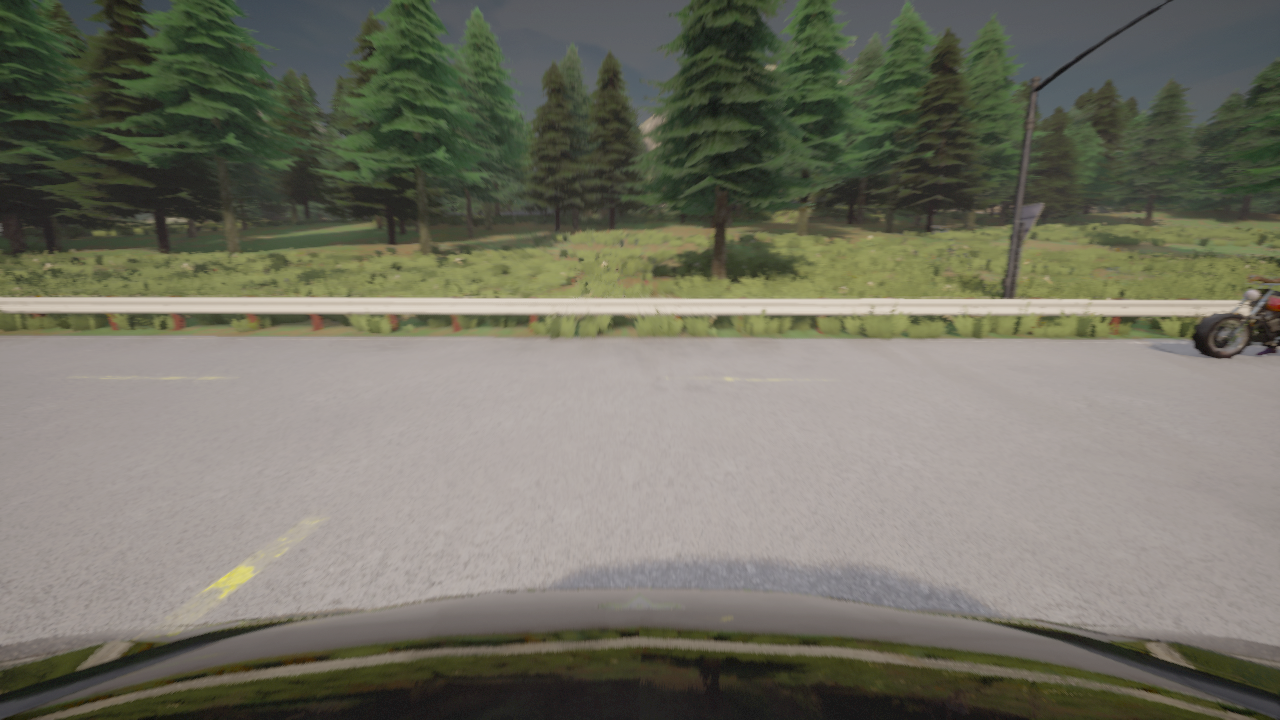cyclist: (0, 588, 1279, 719), (1191, 274, 1279, 359)
